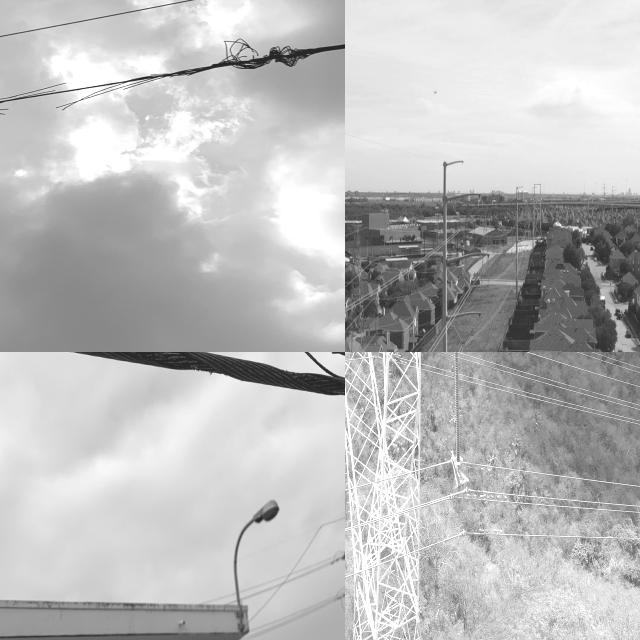杆塔: (345, 352, 424, 640), (345, 217, 376, 352)
正常电缆: (469, 373, 640, 428), (423, 523, 640, 557), (473, 483, 640, 517), (511, 352, 640, 391), (475, 463, 640, 492)
正常绝缘子: (446, 352, 466, 495), (451, 320, 466, 347), (461, 322, 476, 347)
电缆破损: (0, 12, 335, 131)
